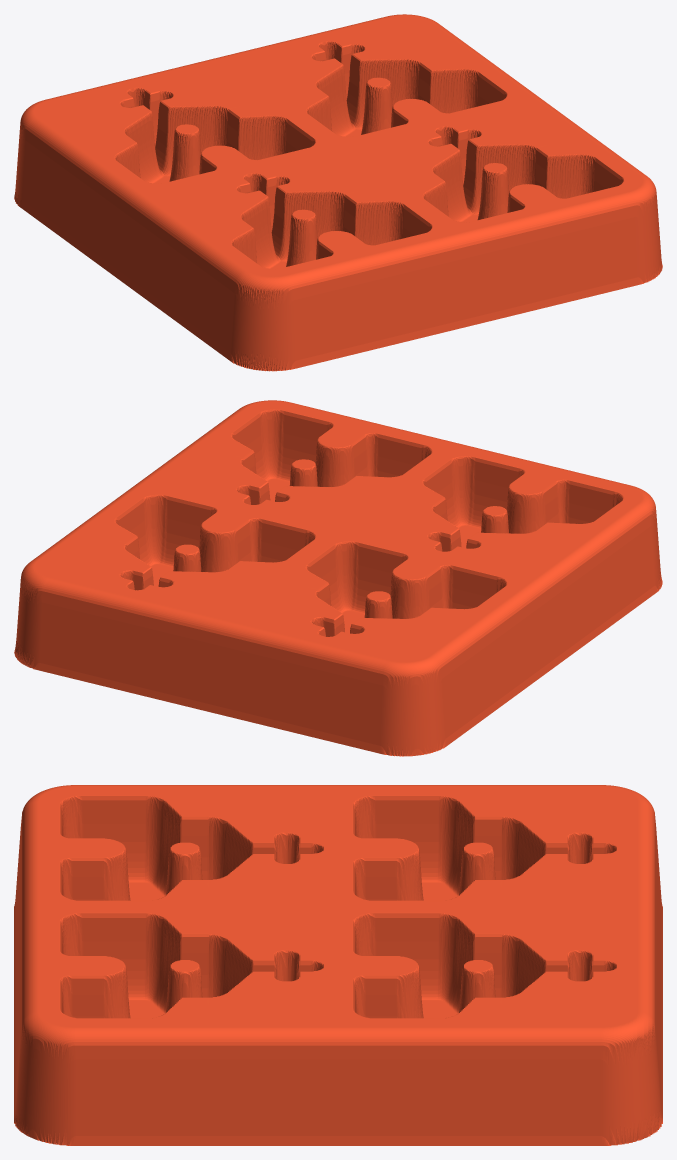
File: mold.glb
3 renders of one model, top to bottom at view 1: azimuth 30°, elevation 25°; view 2: azimuth 150°, elevation 25°; view 3: azimuth 270°, elevation 25°, orthographic. The views are drawn at different scales.
Parts seen in each view (by area): view 1: geometry_0; view 2: geometry_0; view 3: geometry_0.
Part boxes in pixels (<box>): geometry_0: <box>14,14,662,371</box>; geometry_0: <box>14,400,662,756</box>; geometry_0: <box>14,785,662,1145</box>.
Size of the model in its own units: 0.0908 by 0.0175 by 0.0952.
